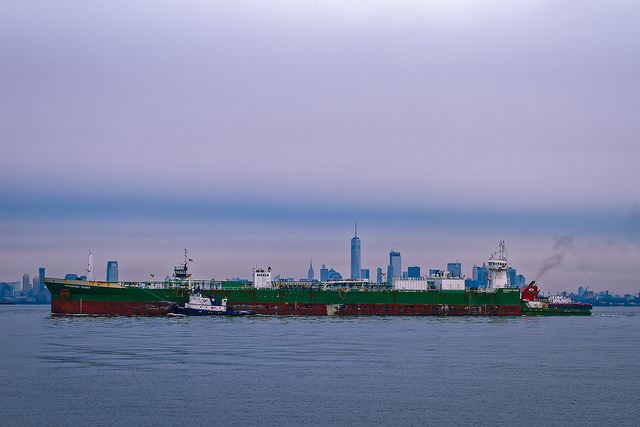tanker: (39, 239, 522, 313)
tug_boat: (161, 288, 251, 315)
